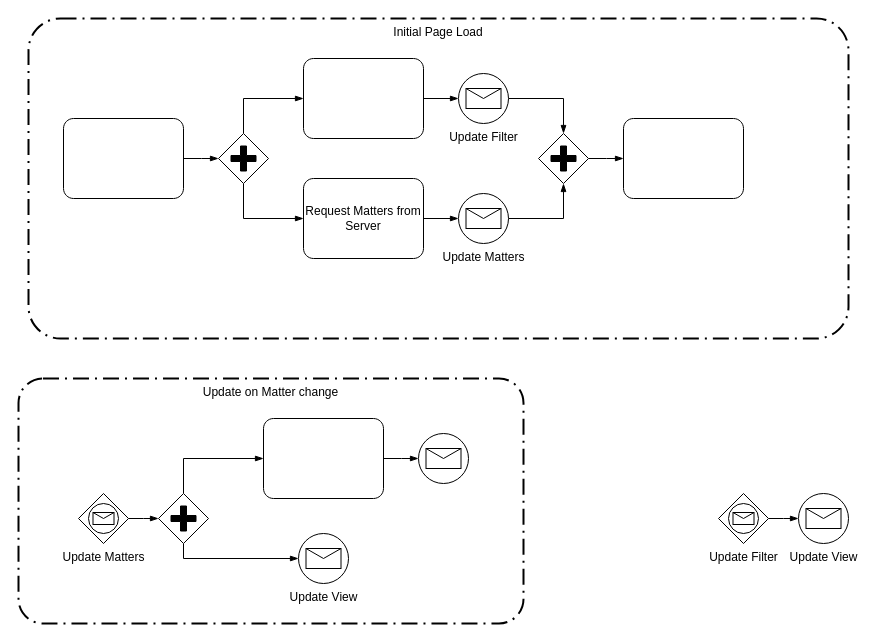
The diagram is 874 pixels wide and 641 high, and some of its shapes have lost their labels. The shapes that lost their labels are listed below. From the top down, each one's centre as x and y in pixels, then its label:
At (363,98): "Load Filter from Local Storage".
At (123,158): "Empty Render".
At (683,158): "First Content Load".
At (323,458): "Calculate Filter Options".
At (443,458): "Update Filter Options".
